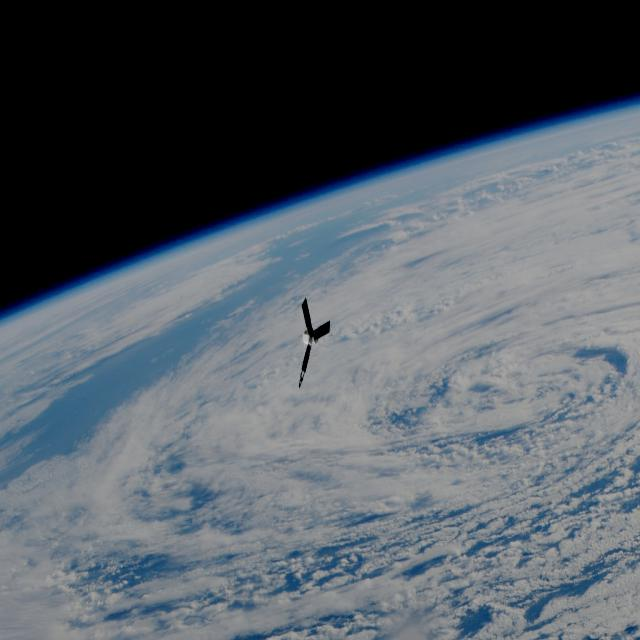satellite: (288, 293, 339, 382)
